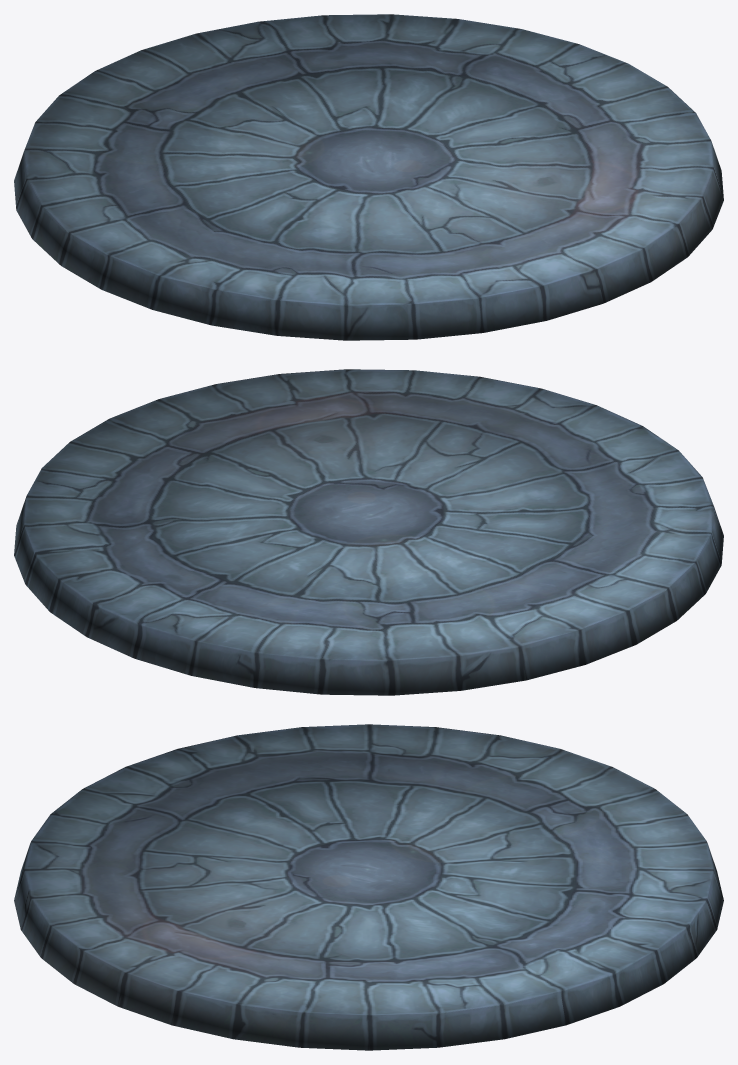
File: downside.fbx
The picture shows the model from 3 angles, top to bottom: view 1: azimuth 30°, elevation 25°; view 2: azimuth 150°, elevation 25°; view 3: azimuth 270°, elevation 25°; orthographic projection.
Parts seen in each view (by area): view 1: downsideMesh; view 2: downsideMesh; view 3: downsideMesh.
Part boxes in pixels (x1,y1,x2,y2): downsideMesh: (14,14,723,340); downsideMesh: (14,369,723,695); downsideMesh: (14,724,723,1050).
Size of the model in its own units: 16.18 by 0.7699 by 16.18.
1 material, 1 textured.
